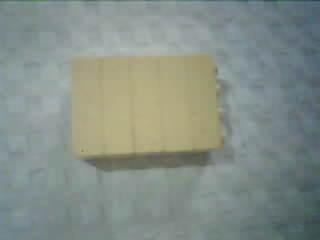lego: (61, 53, 228, 160)
